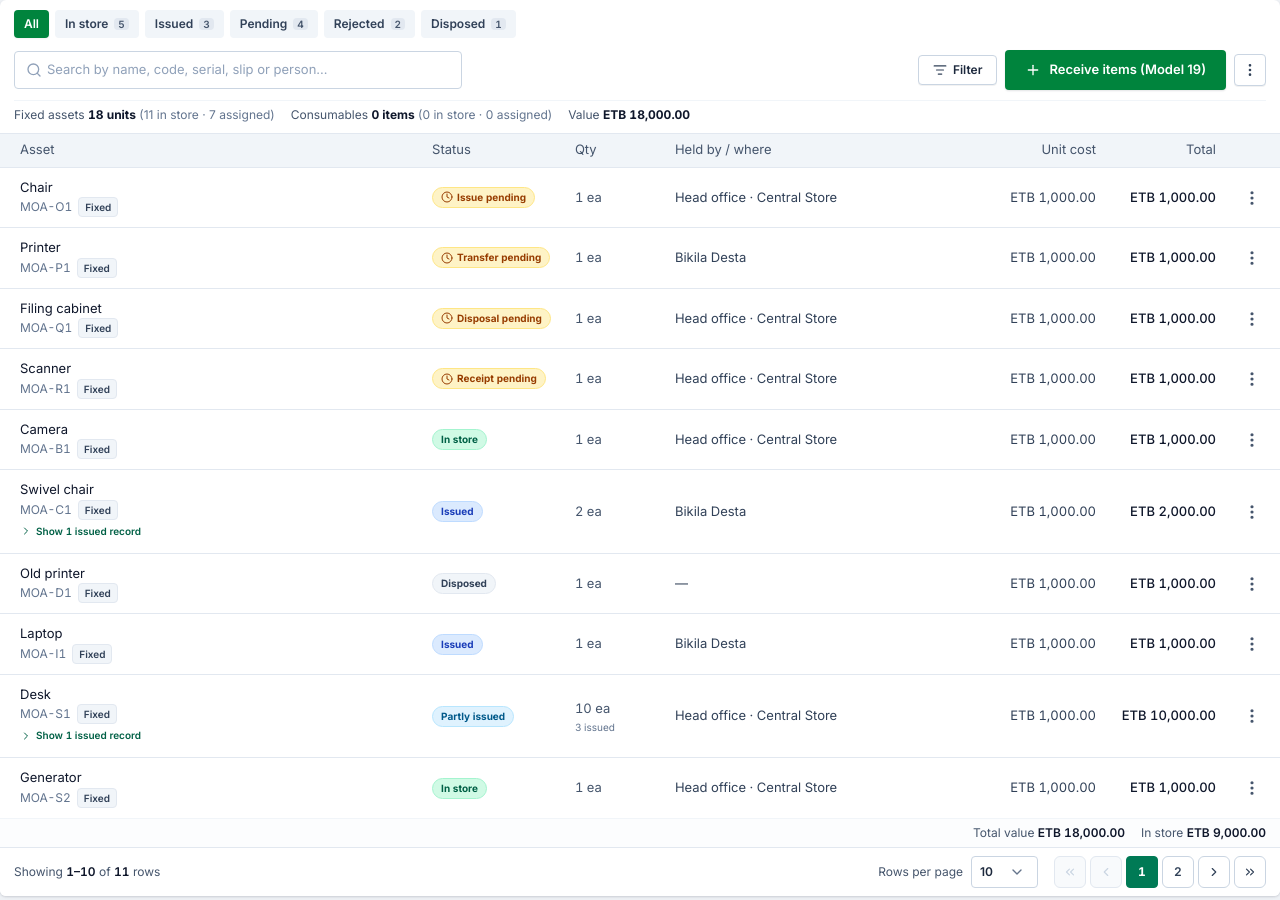
Test case: Assets page › says which Model 21 moved a record
Check: the text "MOA-C1" is shown, box [20, 502, 72, 518]
Check: the text titled "Returned on Model 21 No. REQ-BACK" in the row of "Camera" is shown, box [675, 431, 837, 447]
Click the button "Issued 3": (184, 24) [145, 10, 224, 38]
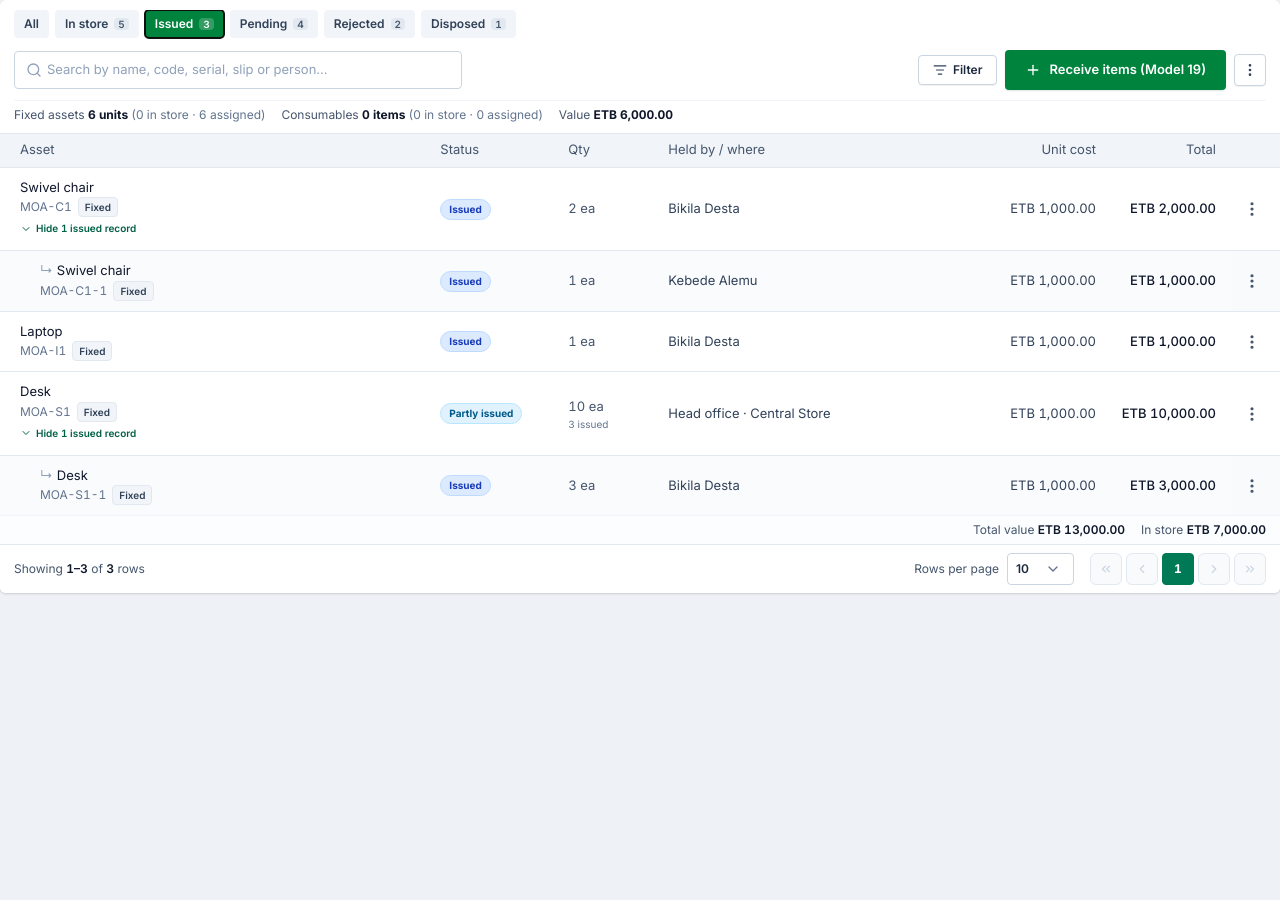
Check: the row named "Open MOA-C1" shows "issued", box [20, 221, 136, 236]
Check: the text titled "Transferred on Model 21 No. 0004207" is shown, box [668, 272, 758, 288]
